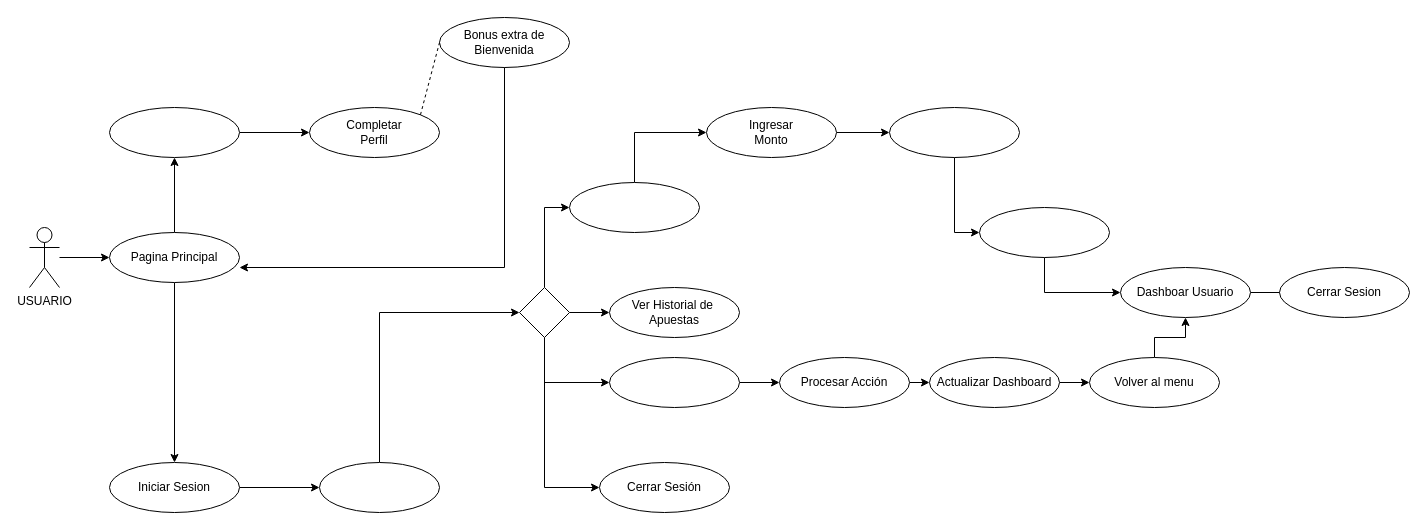
The diagram is 1427 pixels wide and 530 high, and some of its shapes have lost their labels. Here are the shapes that lost their labels. From the top down, the centre of each, then its label:
[174,132]: Registra
[954,132]: confirmar carrera
[634,207]: Apostar Caballo Ganador
[1044,232]: Resultados
[674,382]: Ver saldo / cargar/donar
[379,487]: Dasboard de Usuario
